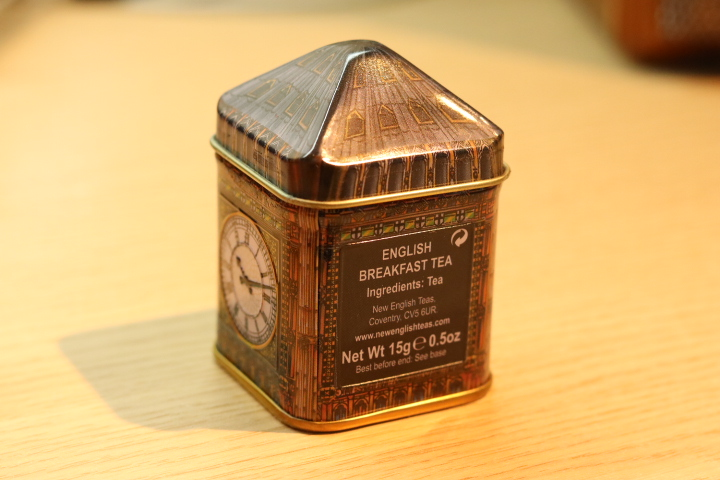Big Ben: (203, 29, 524, 444)
